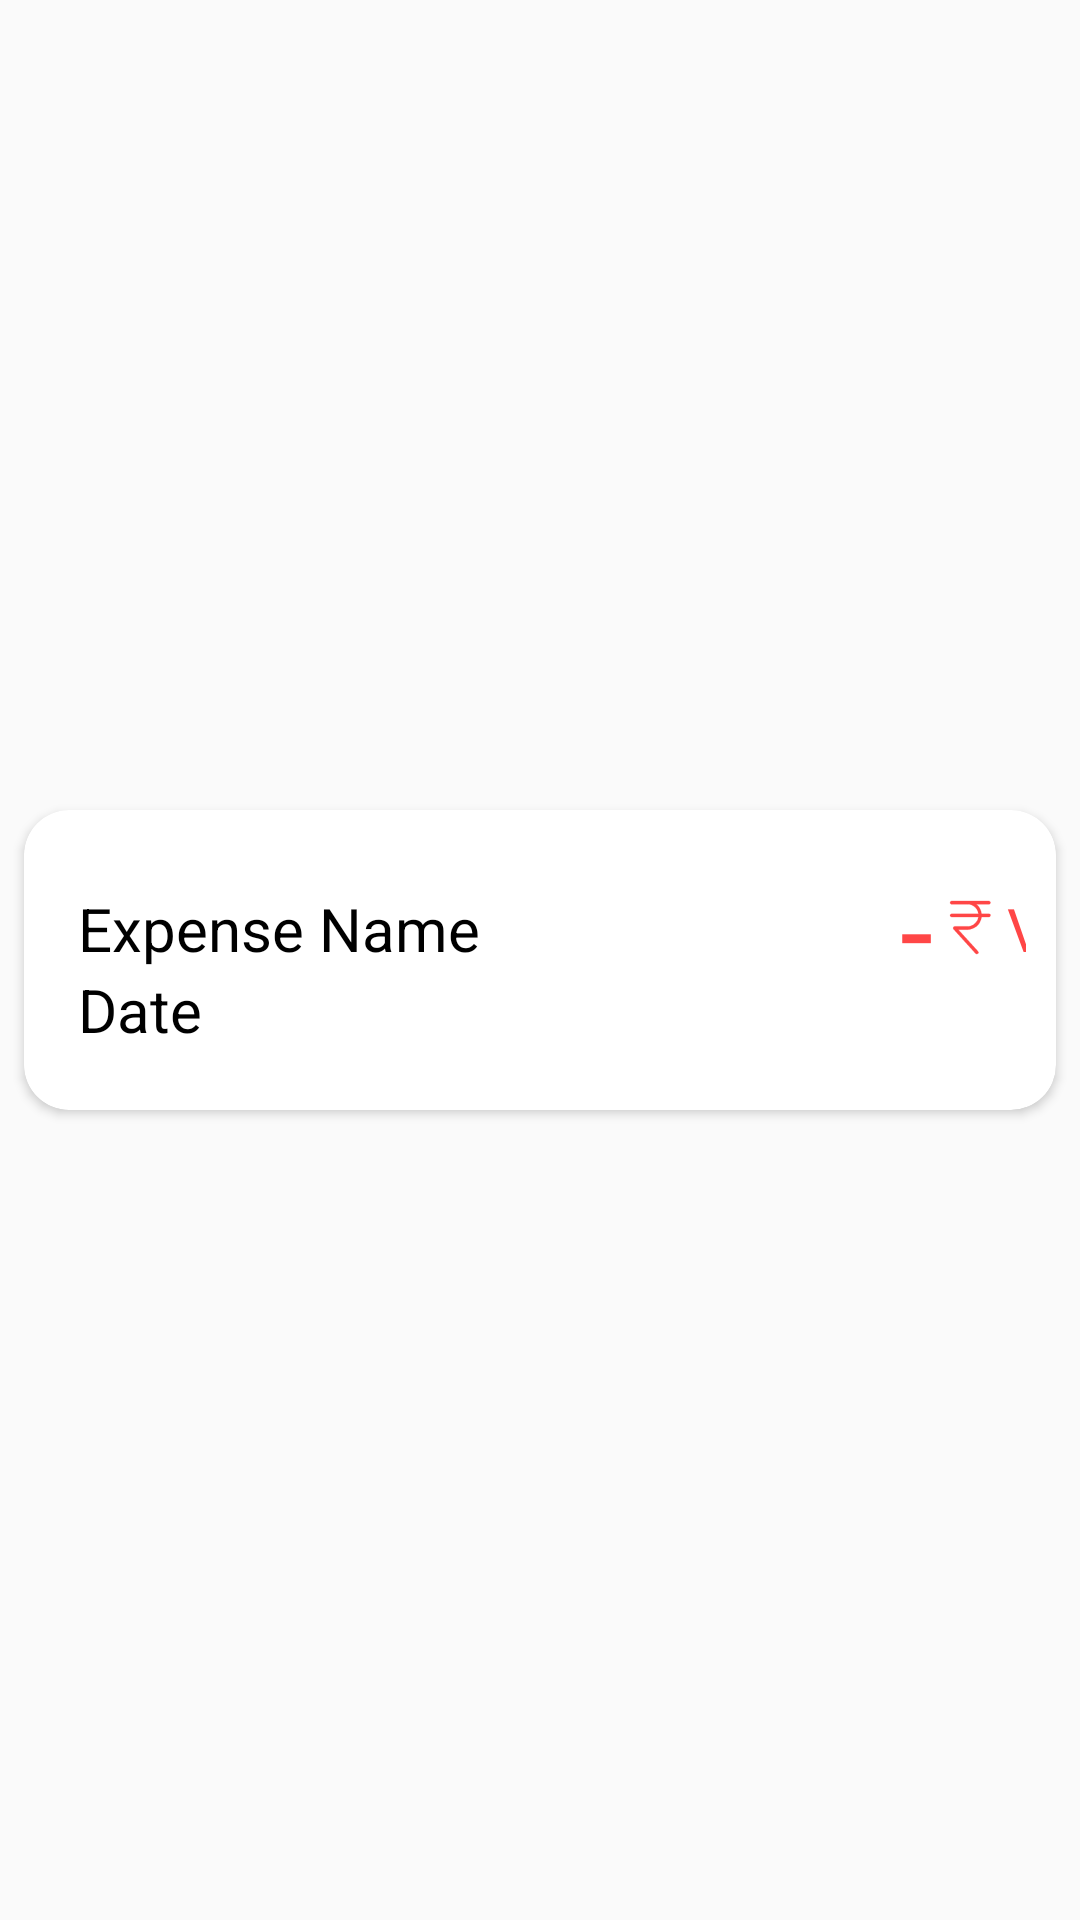

Screen size 1080x1920. Icon name, then its center in pixels as [x,y]:
rupeeicon: [970,927]
